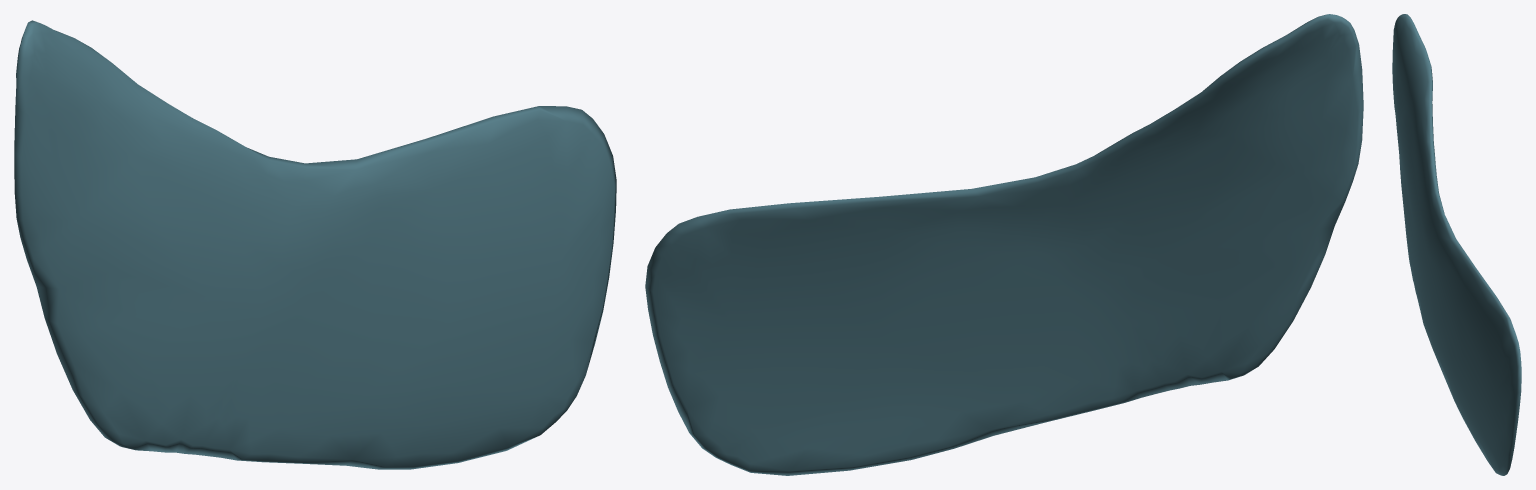
The model's file is Abdominal_part_of_pectoralis_major_muscle-_Insertion.l_Generate.glb.
The picture shows the model from 3 angles, left to right: view 1: azimuth 30°, elevation 25°; view 2: azimuth 150°, elevation 25°; view 3: azimuth 270°, elevation 25°; orthographic projection. The views are drawn at different scales.
Parts seen in each view (by area): view 1: Abdominal_part_of_pectoralis_major_muscle-_Insertion.l_Gener; view 2: Abdominal_part_of_pectoralis_major_muscle-_Insertion.l_Gener; view 3: Abdominal_part_of_pectoralis_major_muscle-_Insertion.l_Gener.
Boxes of the visible parts, <box> form: Abdominal_part_of_pectoralis_major_muscle-_Insertion.l_Gener: <box>14,20,616,469</box>; Abdominal_part_of_pectoralis_major_muscle-_Insertion.l_Gener: <box>645,14,1363,475</box>; Abdominal_part_of_pectoralis_major_muscle-_Insertion.l_Gener: <box>1392,14,1521,475</box>.
Size of the model in its own units: 0.0327 by 0.0269 by 0.01.
